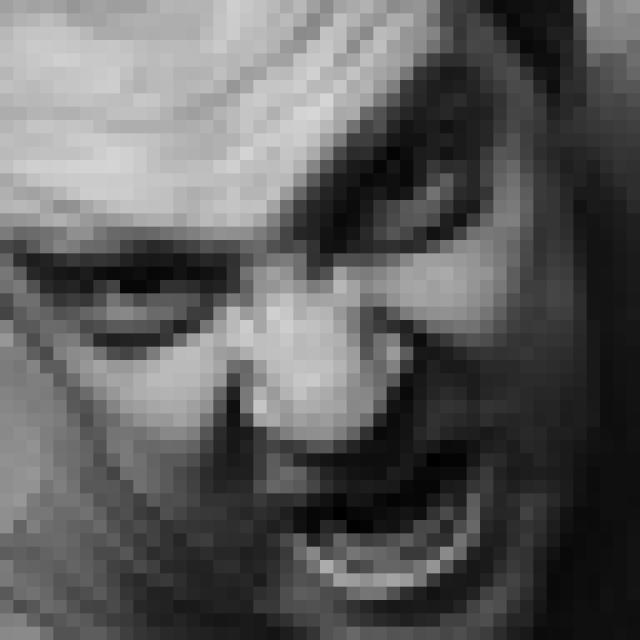angry: (26, 86, 529, 609)
